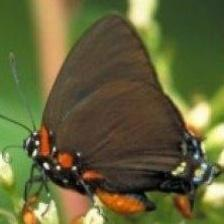butterfly: (25, 16, 213, 214)
